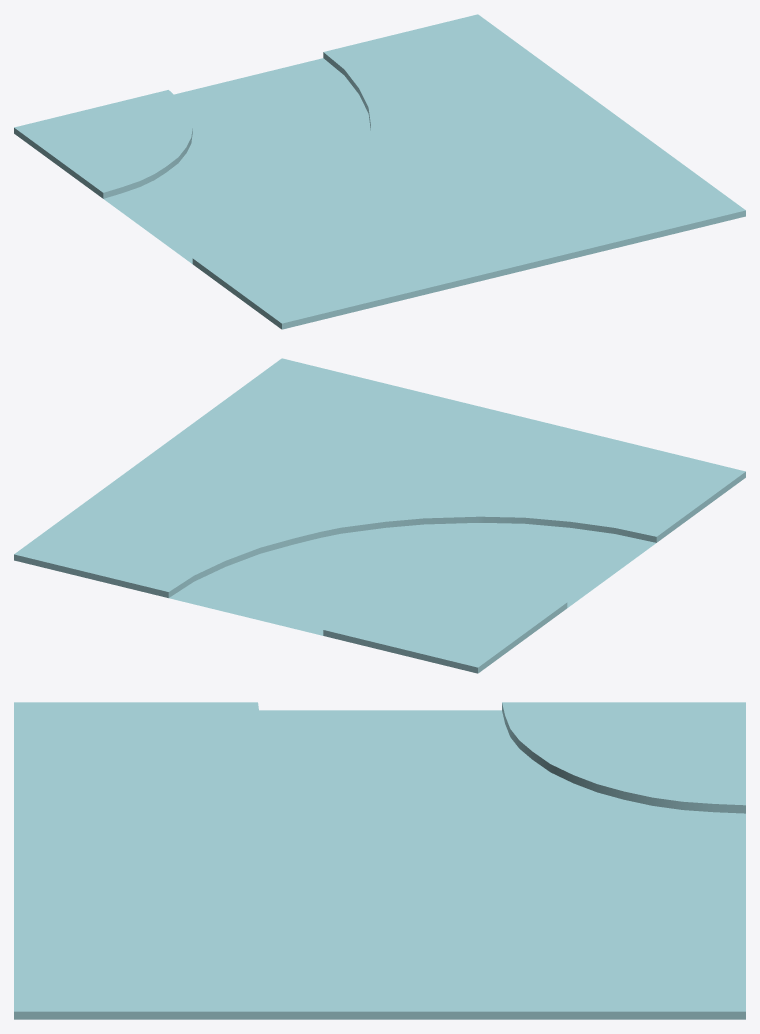
File: curve_road.fbx
3 renders of one model, top to bottom at view 1: azimuth 30°, elevation 25°; view 2: azimuth 150°, elevation 25°; view 3: azimuth 270°, elevation 25°, orthographic. The views are drawn at different scales.
Parts seen in each view (by area): view 1: curve_road0; view 2: curve_road0; view 3: curve_road0.
Part boxes in pixels (x1,y1,x2,y2): curve_road0: (14, 14, 745, 329); curve_road0: (14, 358, 745, 673); curve_road0: (14, 702, 745, 1019).
Size of the model in its own units: 2400 by 30 by 2400.
